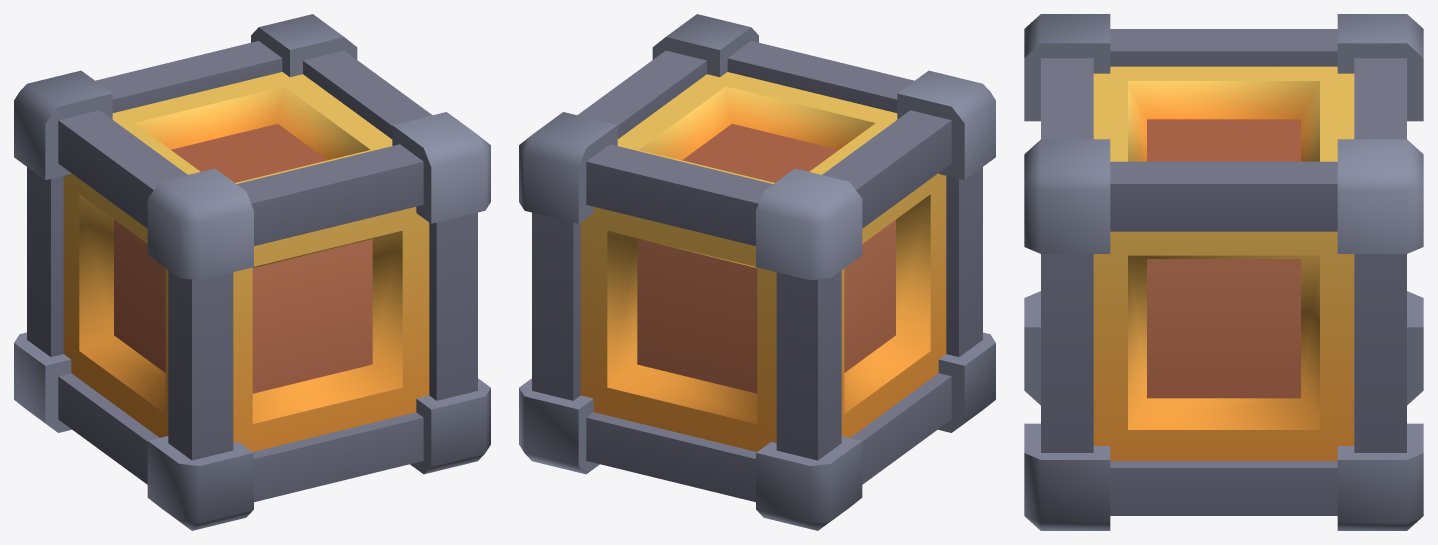
Rendered from crate_item_strong.glb.
3 renders of one model, left to right at view 1: azimuth 30°, elevation 25°; view 2: azimuth 150°, elevation 25°; view 3: azimuth 270°, elevation 25°, orthographic. The views are drawn at different scales.
Visible parts, largest first — view 1: crate-item-strong; view 2: crate-item-strong; view 3: crate-item-strong.
Part boxes in pixels (box(x1,y1,x2,y2)): crate-item-strong: box(14, 14, 490, 530); crate-item-strong: box(519, 14, 995, 530); crate-item-strong: box(1024, 14, 1423, 530).
Bounding box in the file's own units: 0.6 × 0.6 × 0.6.
Materials: 1 (1 with a texture image).
